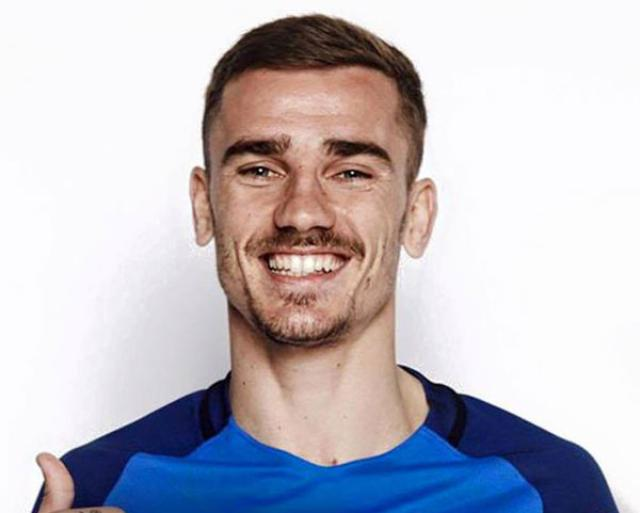masseter: (230, 234, 252, 288), (366, 231, 388, 275)
